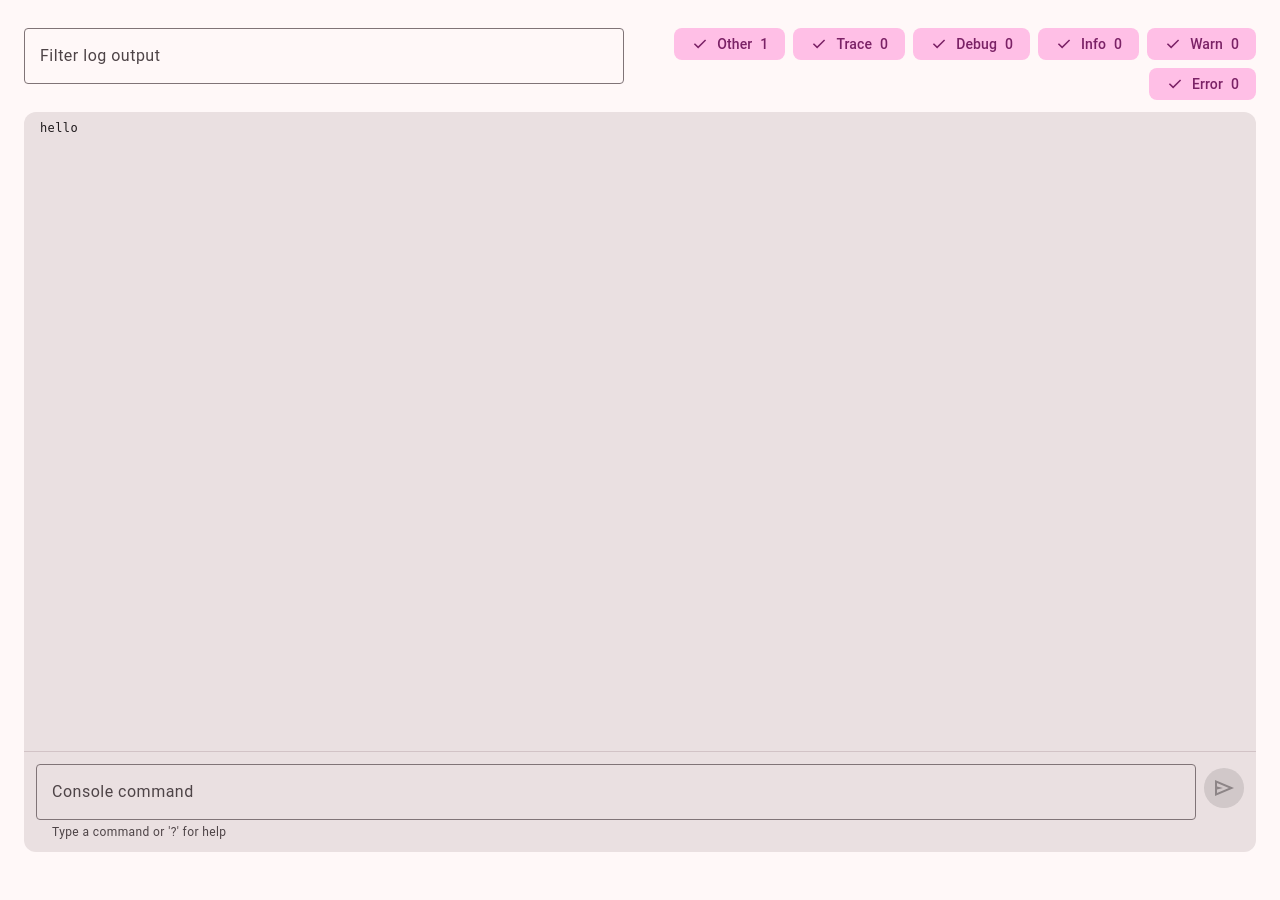
ConsoleView › empty output › says no line matches the filter instead of waiting for a first line
Step 1. Type "zzz" into the field labelled "Filter log output" → x=324, y=56, box [24,28,624,84]
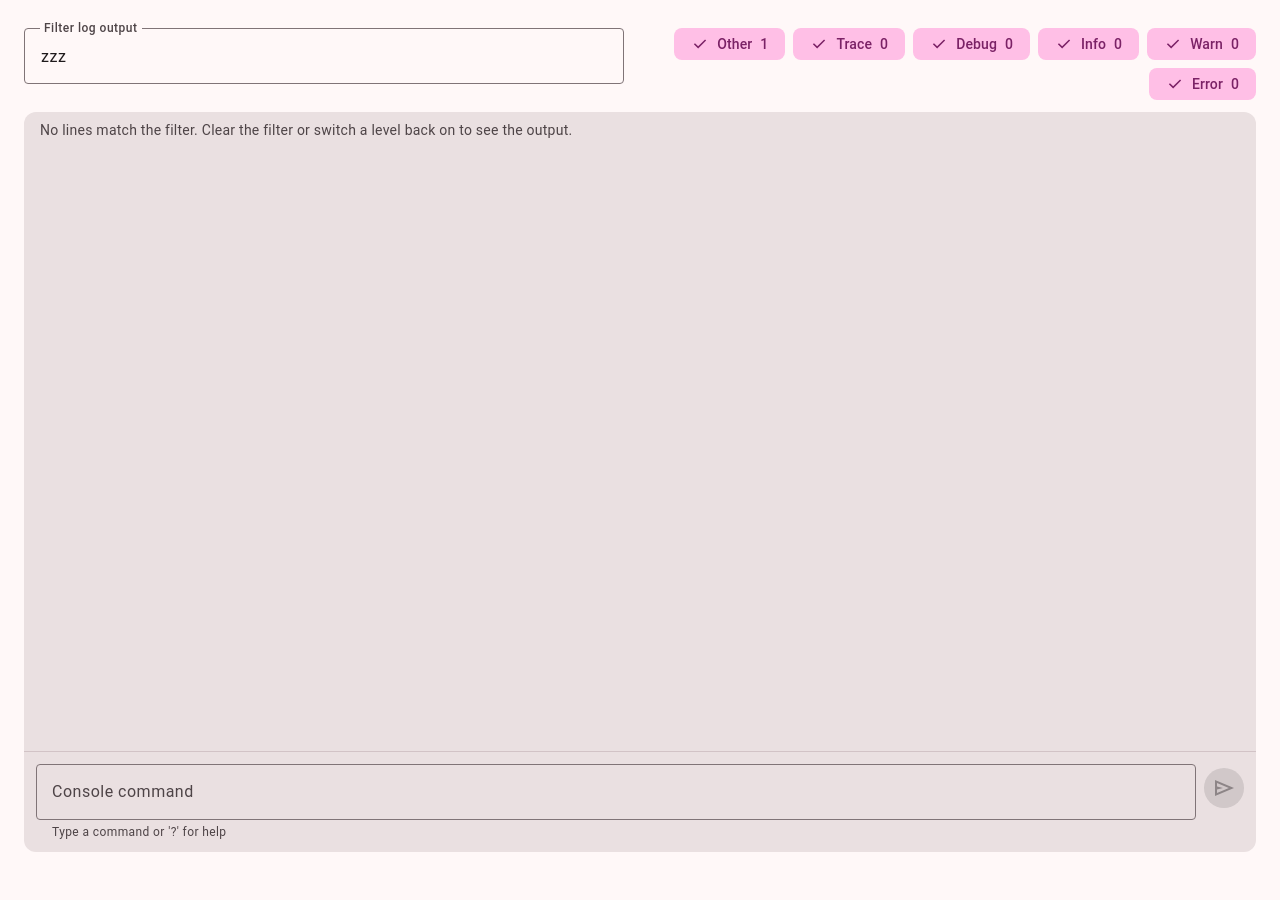
Expected: the text "No lines match the filter" is shown, [40,122,572,138]
